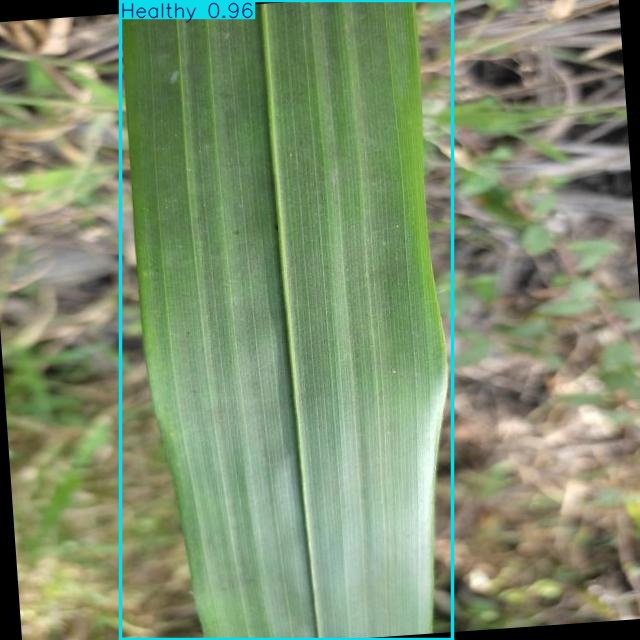Healthy: (121, 0, 452, 640)
